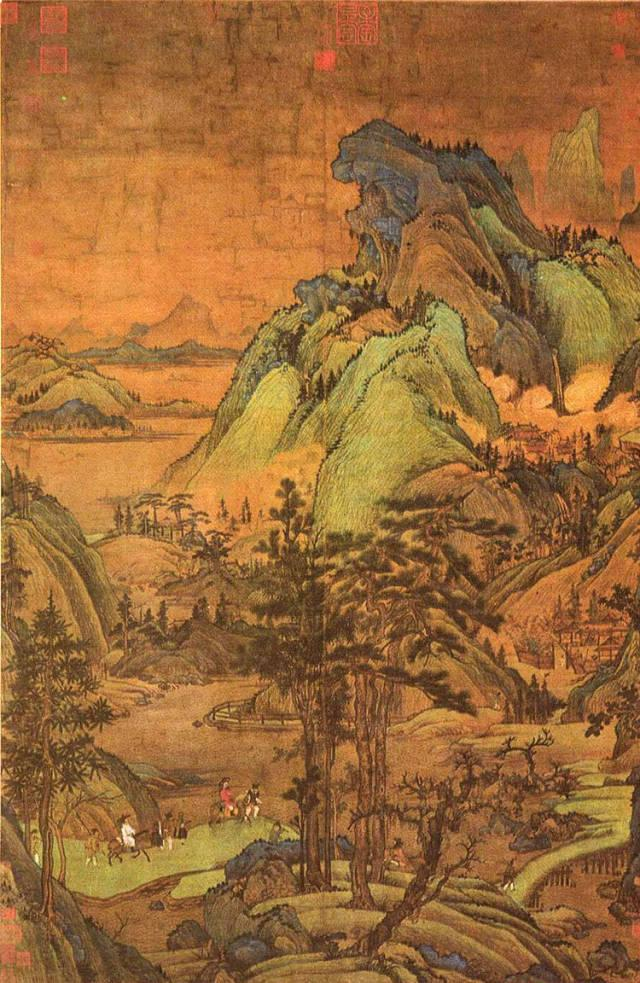horse: (104, 829, 157, 861)
house: (503, 422, 575, 461)
man: (110, 810, 145, 864), (150, 808, 193, 851), (236, 776, 267, 831), (210, 773, 238, 828), (83, 822, 104, 869)
mountain: (335, 125, 624, 406), (219, 272, 461, 488), (1, 461, 112, 636), (5, 328, 172, 442)
tree: (255, 489, 496, 909), (363, 729, 570, 958), (1, 539, 94, 922), (557, 684, 640, 735)
